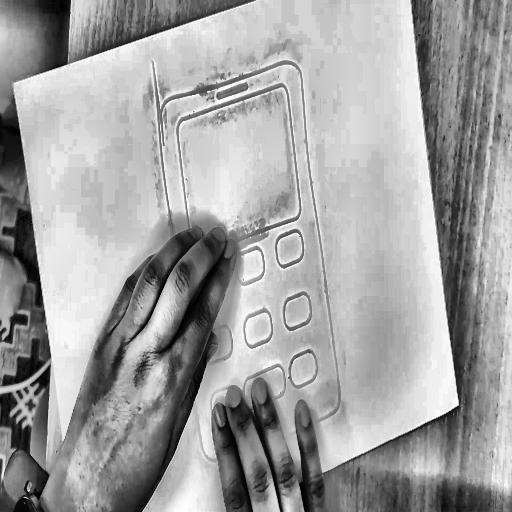bottom_right: (454, 398, 463, 411)
mobile: (137, 6, 363, 485)
top_left: (9, 79, 17, 90)
